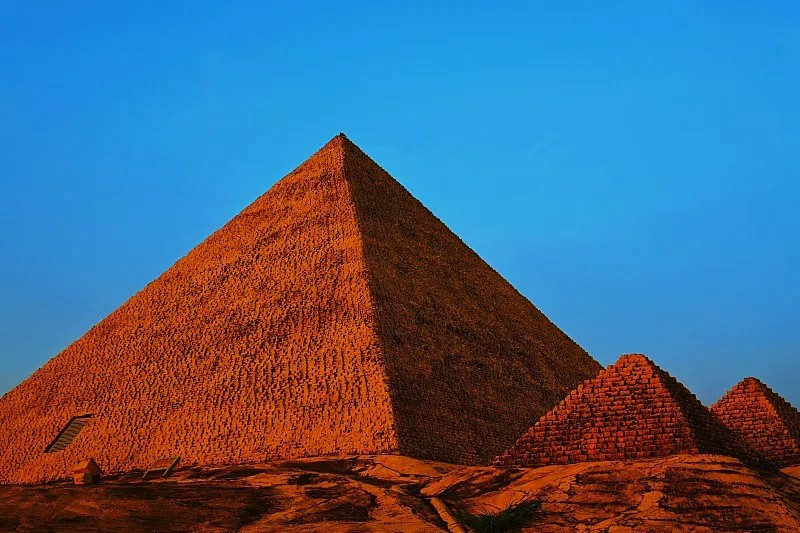Pyramid: (2, 132, 604, 483), (497, 352, 781, 473), (707, 379, 800, 464)
